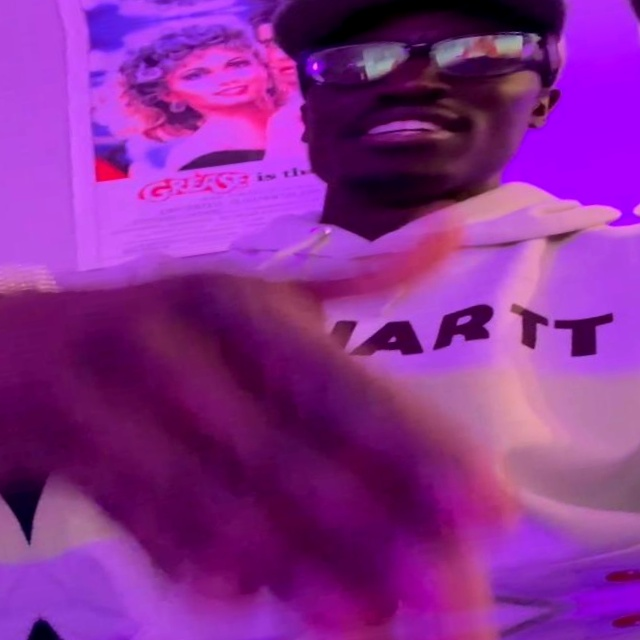Paper: (0, 221, 544, 640)
